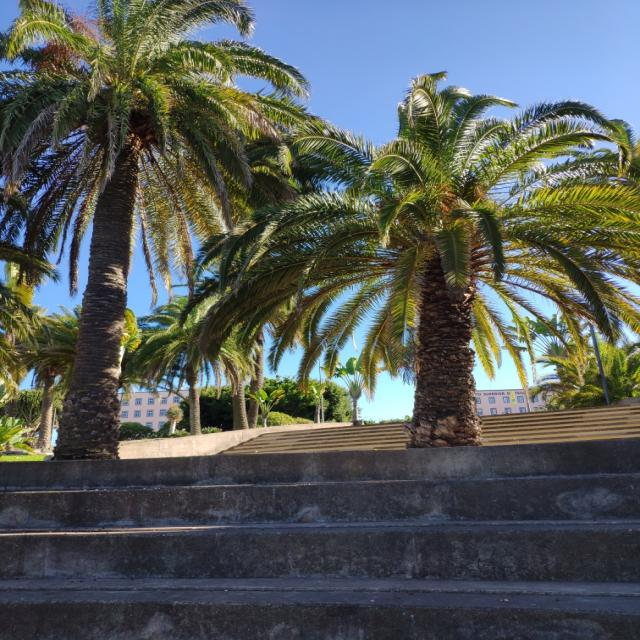Palm-Trees: (0, 1, 297, 458), (268, 94, 628, 448)
